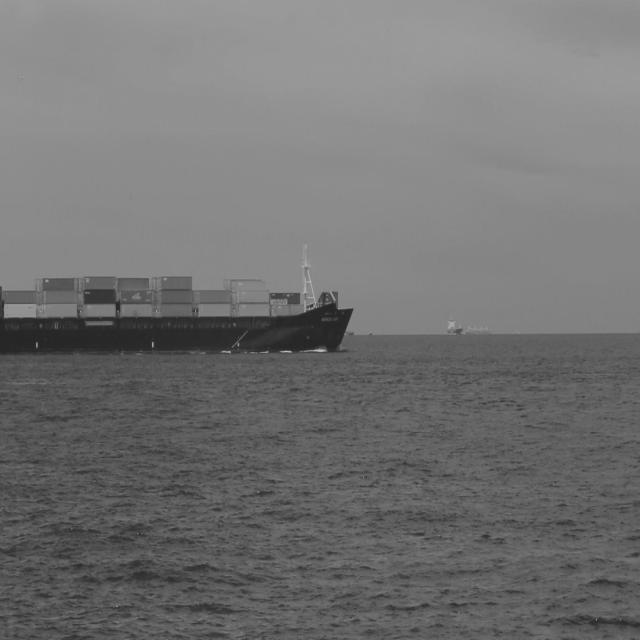ship: (0, 242, 355, 353), (442, 315, 462, 335)
